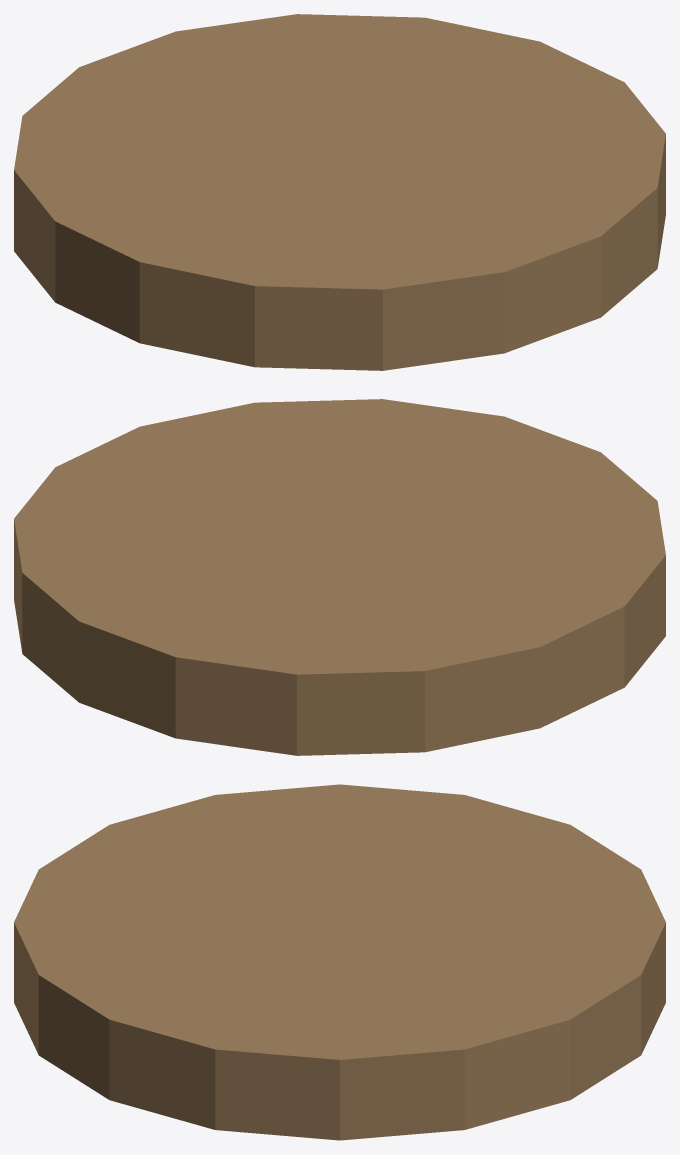
The model's file is wooden_buckler.glb.
3 views of the same model, one above another, from view 1: azimuth 30°, elevation 25°; view 2: azimuth 150°, elevation 25°; view 3: azimuth 270°, elevation 25° (orthographic).
Visible parts, largest first — view 1: shield_0_0; view 2: shield_0_0; view 3: shield_0_0.
Boxes of the visible parts, box(x1,y1,x2,y2) form: shield_0_0: box(14, 14, 665, 370); shield_0_0: box(14, 399, 665, 755); shield_0_0: box(14, 784, 665, 1140).
Bounding box in the file's own units: 1.1 × 0.15 × 1.1.
